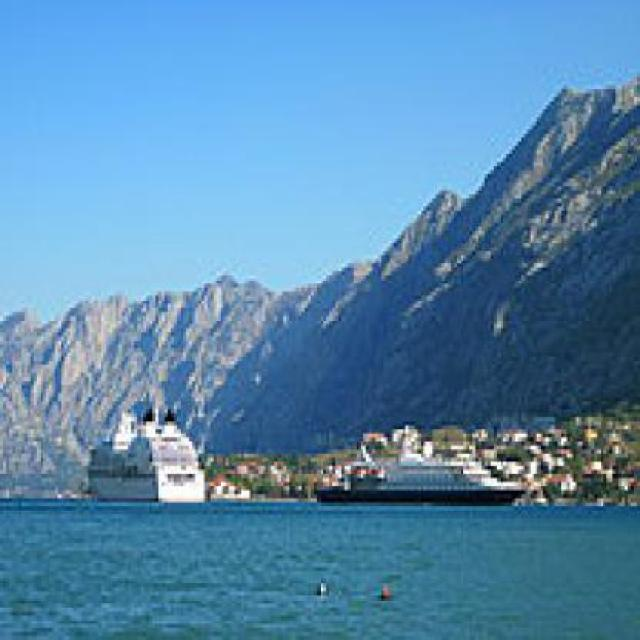cruise: (80, 386, 220, 511), (306, 438, 534, 512)
